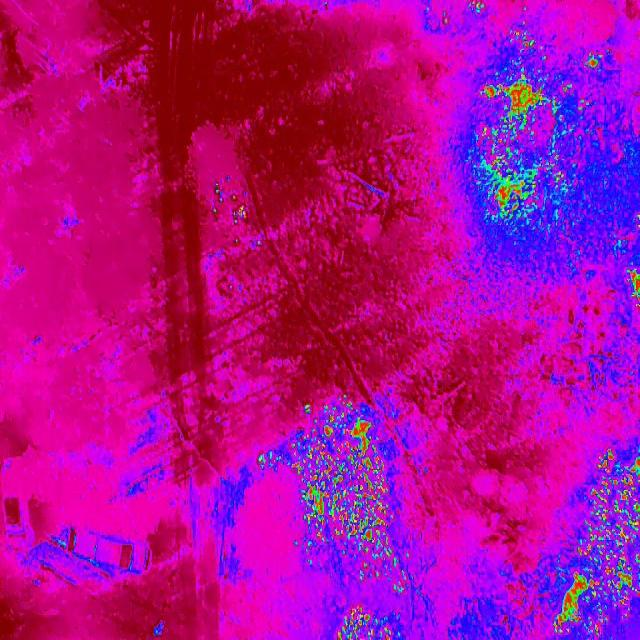fire: (298, 393, 416, 601), (461, 71, 586, 249), (587, 450, 640, 640), (556, 542, 586, 640), (334, 602, 399, 640), (258, 424, 300, 481), (620, 264, 640, 315), (588, 52, 603, 72)
